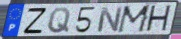5: (74, 6, 97, 35)
H: (144, 5, 173, 34)
M: (116, 4, 153, 34)
N: (96, 6, 124, 33)
Q: (47, 6, 72, 34)
Z: (22, 6, 49, 35)
